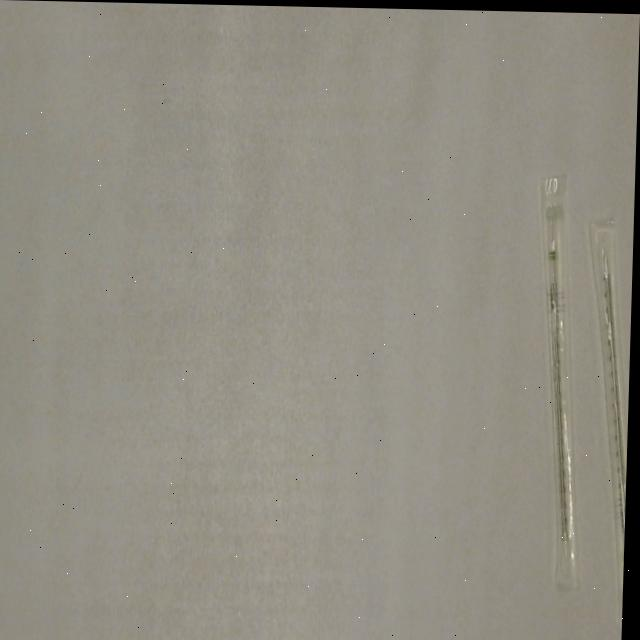Serelogical Pipet 2 mL - Sealed: (528, 158, 594, 595), (580, 208, 635, 605)
